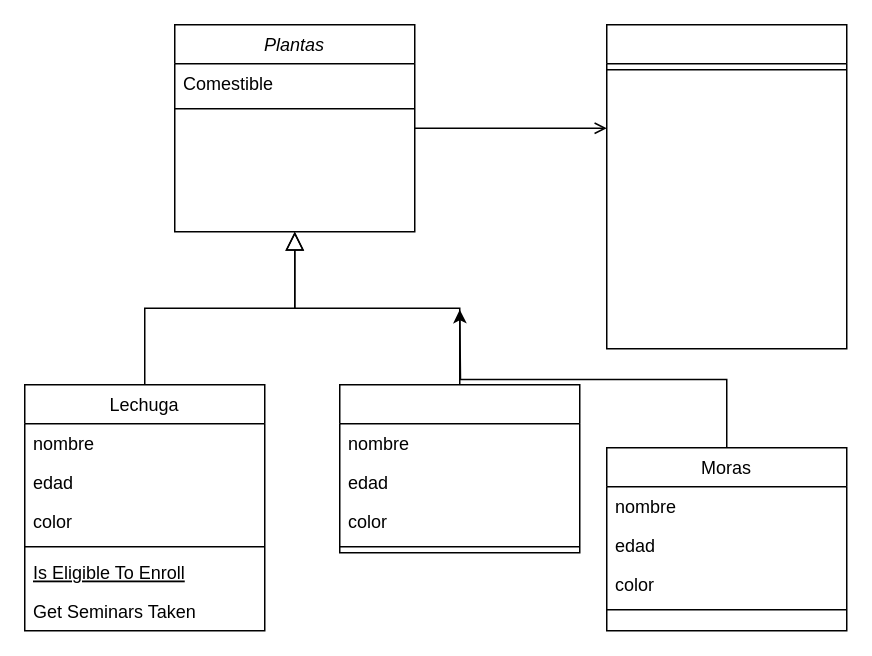
The diagram is 872 pixels wide and 656 high, and some of its shapes have lost their labels. Here are the shapes that lost their labels. From the top down, the box of each, then its label:
(605, 23, 847, 349): Reino
(338, 383, 580, 553): Zanahoria
